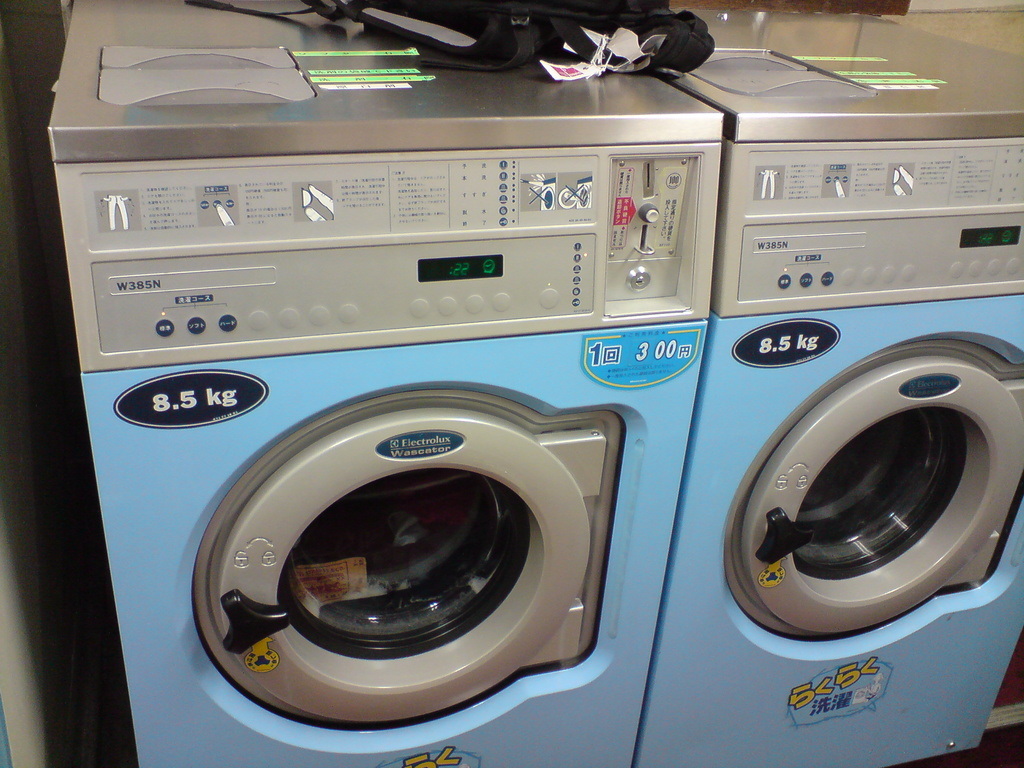person: (305, 0, 720, 80)
